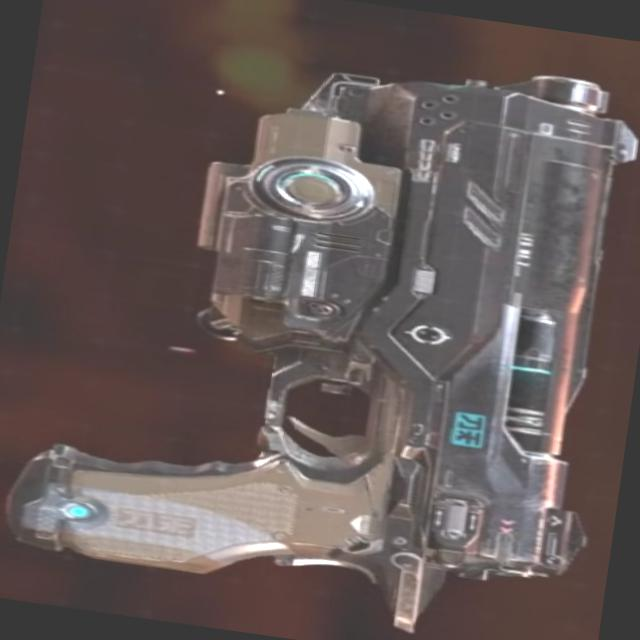handgun: (14, 6, 639, 639)
